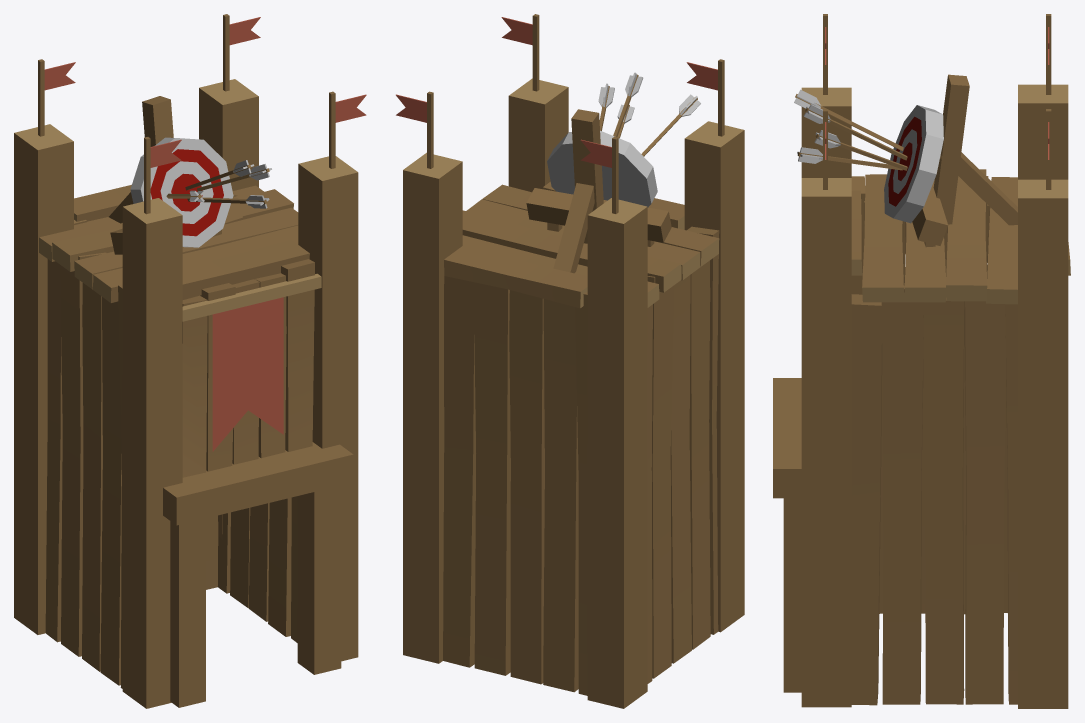
Rendered from ArcherTower.fbx.
3 views of the same model, side by side, from view 1: azimuth 30°, elevation 25°; view 2: azimuth 150°, elevation 25°; view 3: azimuth 270°, elevation 25° (orthographic). The views are drawn at different scales.
Visible parts, largest first — view 1: Archery_FirstAge_Level1; view 2: Archery_FirstAge_Level1; view 3: Archery_FirstAge_Level1.
Boxes of the visible parts, box(x1,y1,x2,y2) form: Archery_FirstAge_Level1: box(14, 14, 366, 708); Archery_FirstAge_Level1: box(396, 14, 744, 708); Archery_FirstAge_Level1: box(773, 14, 1070, 708).
Size of the model in its own units: 50.5 by 113 by 51.93.
